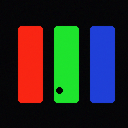0 point: (56, 87, 62, 93)
